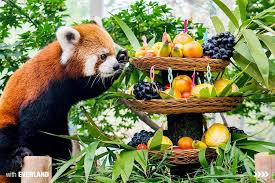redPanda: (0, 14, 128, 171)
